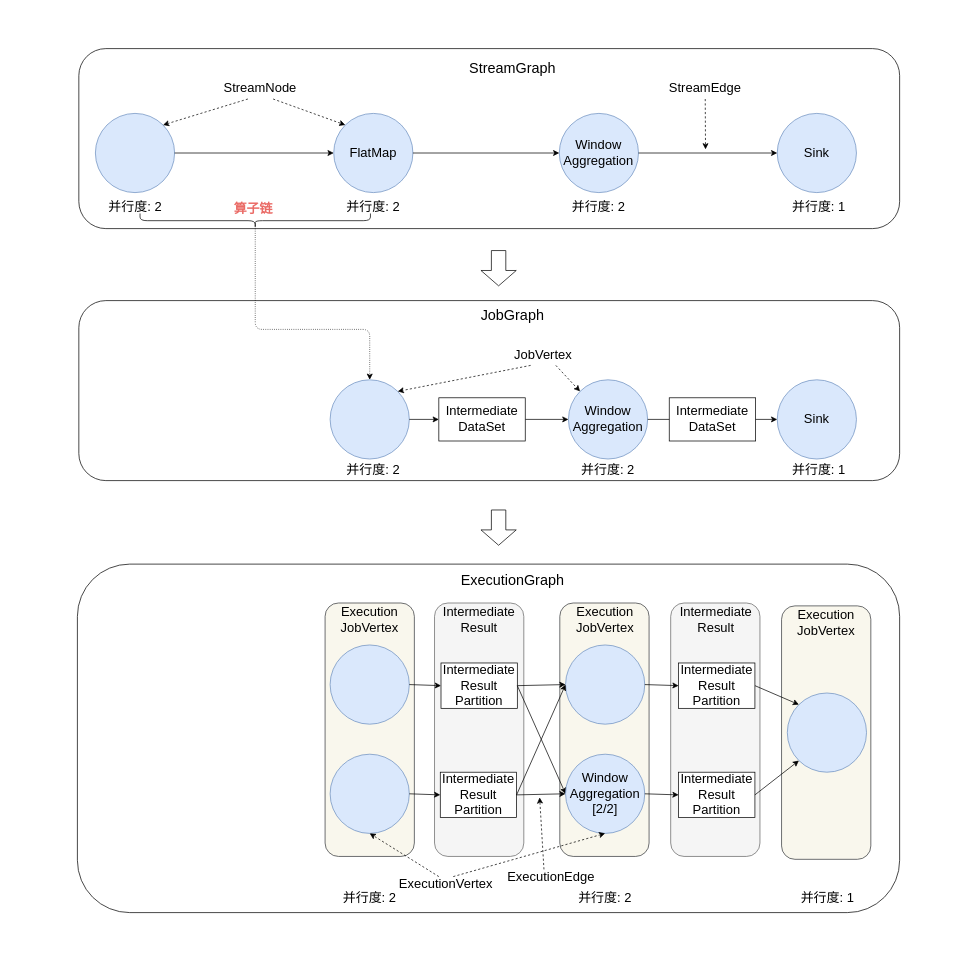
The diagram is 977 pixels wide and 960 high, and some of its shapes have lost their labels. The centre of each missing label's shape, as x and y in pixels:
Sink[1/1]: the point at 827,732
Source: the point at 135,153
Source FlatMap: the point at 369,419
Source FlatMap [1/2]: the point at 369,684
Source FlatMap [2/2]: the point at 369,793
Window Aggregation [1/2]: the point at 605,684
